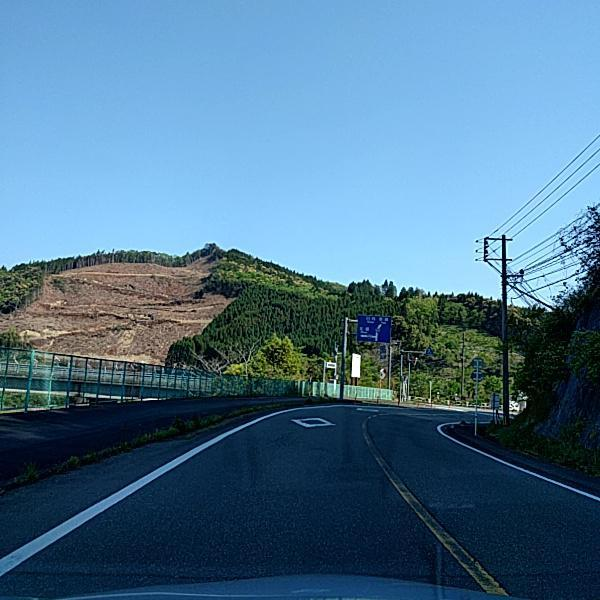D40: (19, 240, 318, 354)
D44: (362, 430, 513, 599)
